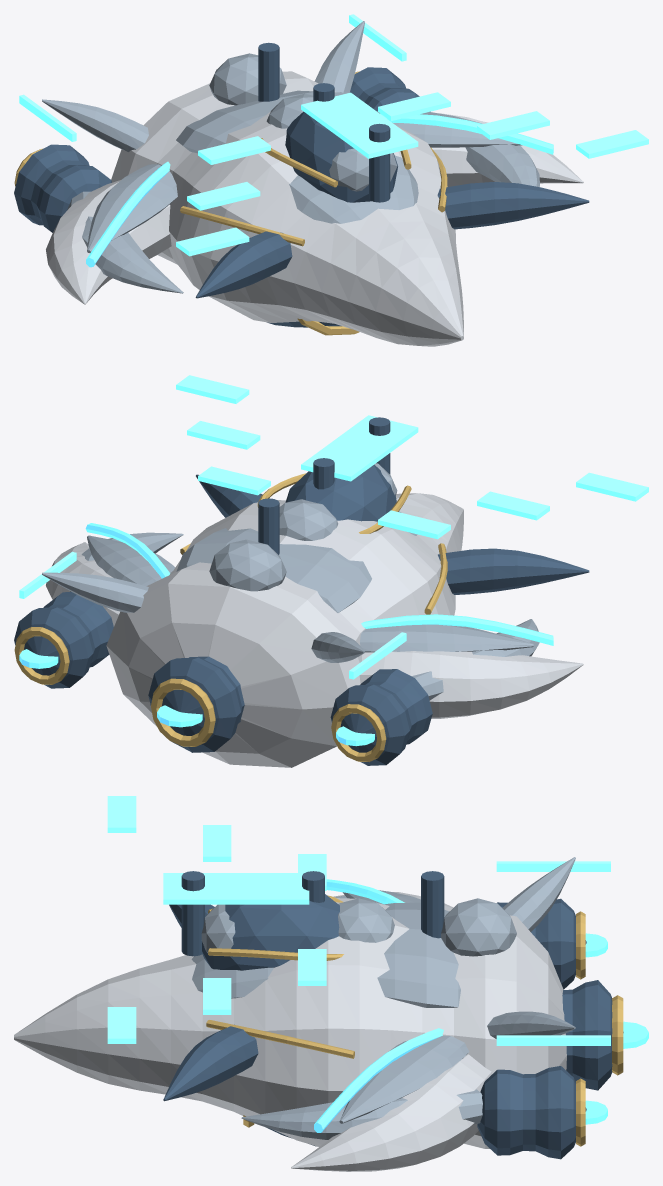
File: SL_BULWARK_HQ.glb
3 views of the same model, one above another, from view 1: azimuth 30°, elevation 25°; view 2: azimuth 150°, elevation 25°; view 3: azimuth 270°, elevation 25° (orthographic). The views are drawn at different scales.
Parts seen in each view (by area): view 1: armor, plate, dark, V59 trim baked, energy, accent; view 2: armor, dark, plate, V59 trim baked, accent, energy; view 3: armor, dark, plate, V59 trim baked, accent, energy.
Boxes of the visible parts, left/top/right/bottom form: armor: left=46, top=71, right=583, bottom=346; plate: left=42, top=21, right=539, bottom=293; dark: left=14, top=42, right=589, bottom=327; V59 trim baked: left=19, top=14, right=648, bottom=256; energy: left=86, top=113, right=553, bottom=267; accent: left=14, top=71, right=447, bottom=335; armor: left=46, top=493, right=583, bottom=767; dark: left=14, top=417, right=589, bottom=765; plate: left=42, top=463, right=539, bottom=700; V59 trim baked: left=19, top=375, right=648, bottom=679; accent: left=14, top=473, right=447, bottom=761; energy: left=19, top=523, right=553, bottom=746; armor: left=14, top=892, right=566, bottom=1171; dark: left=163, top=871, right=623, bottom=1159; plate: left=191, top=857, right=575, bottom=1139; V59 trim baked: left=107, top=796, right=610, bottom=1045; accent: left=206, top=895, right=623, bottom=1146; energy: left=314, top=879, right=648, bottom=1132.
Size of the model in its own units: 5.39 by 2.47 by 5.49.
